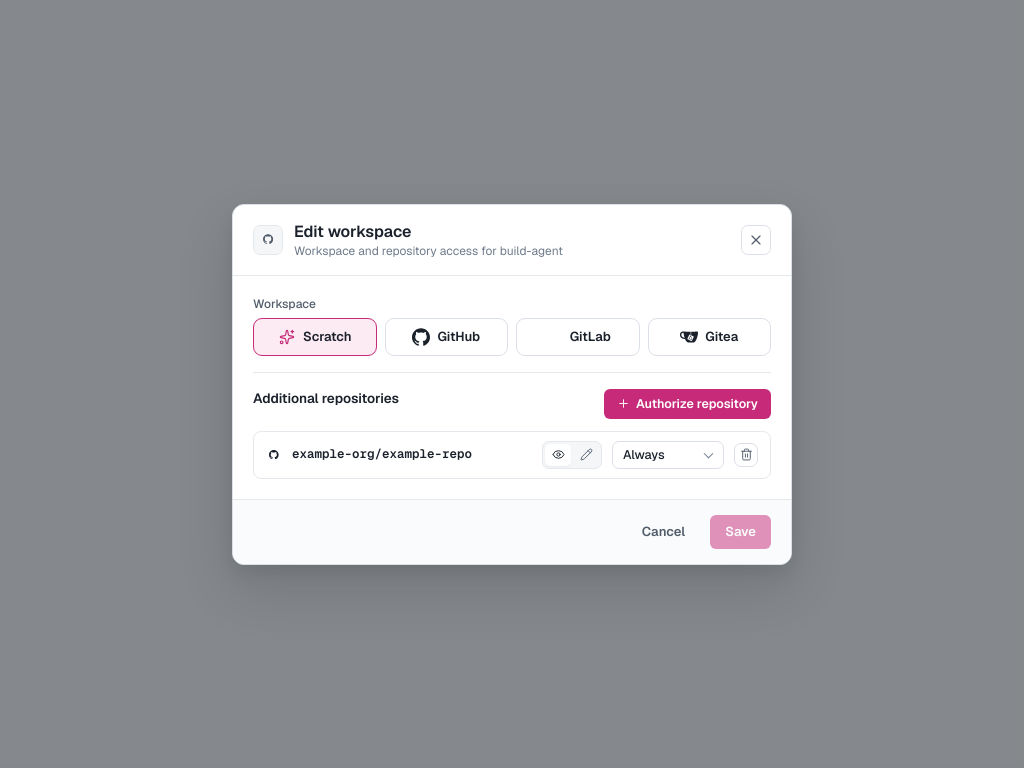
Test: EditWorkspaceModal repository checkout › keeps the row and names the failure when the switch is refused
Click the button "Always": (668, 454) [612,440,724,468]
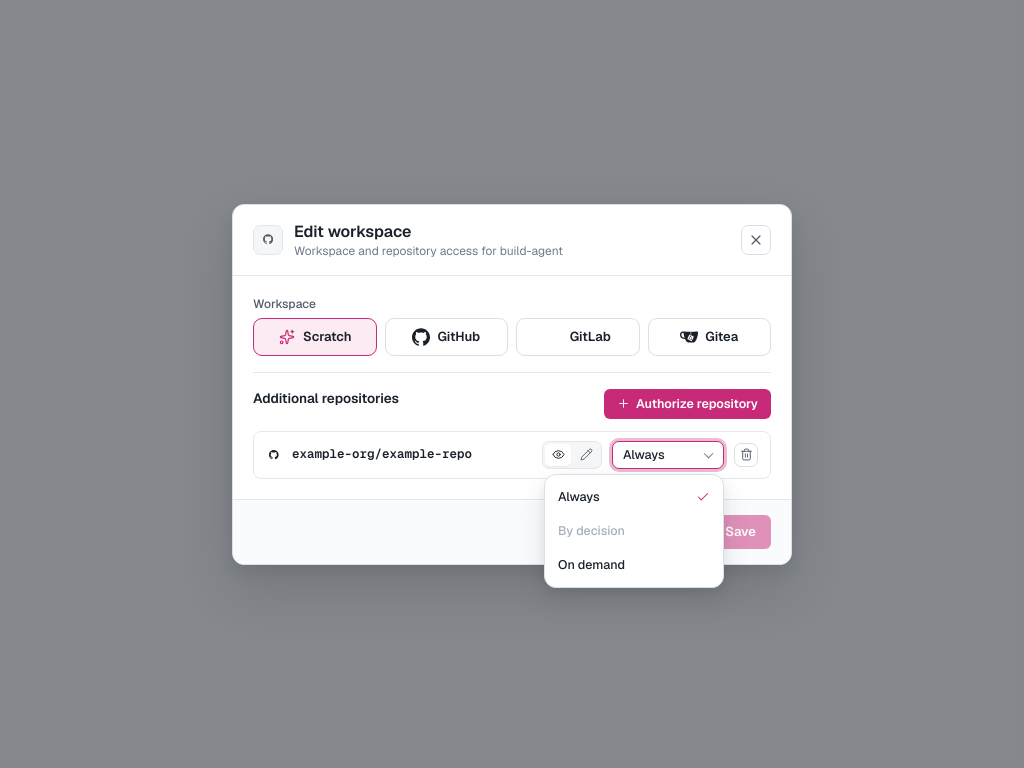
Click the menu item "On demand": (634, 564) [550,548,718,582]
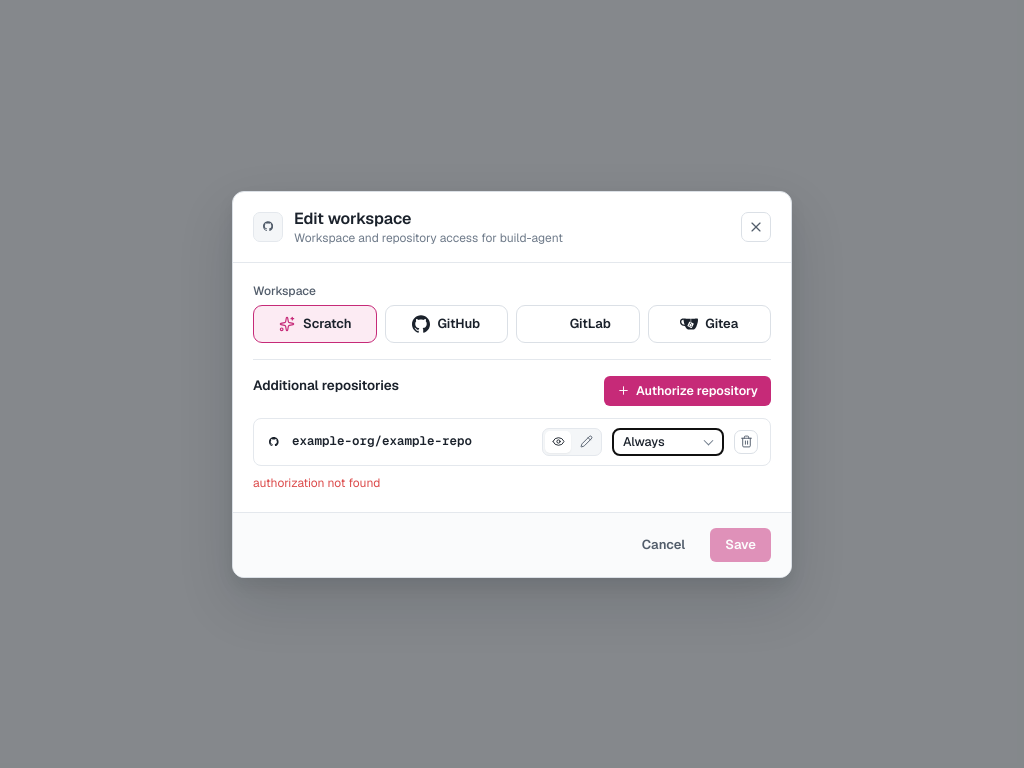
Check: the button "Always" is shown, box [612,428,724,456]
Check: the text "authorization not found" is shown, box [253,474,380,490]
